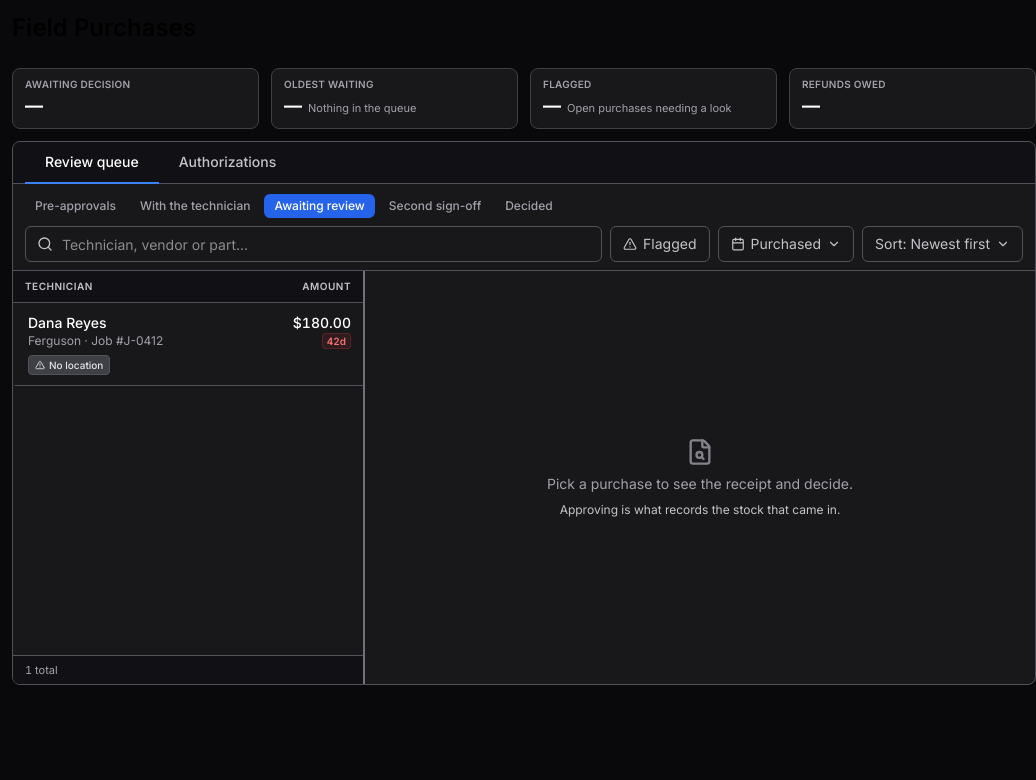
Test: review detail › the captured coordinates are behind a reveal, not on the page
Step 1. Click the text "Dana Reyes" → (67, 323), box [28,313,106,333]
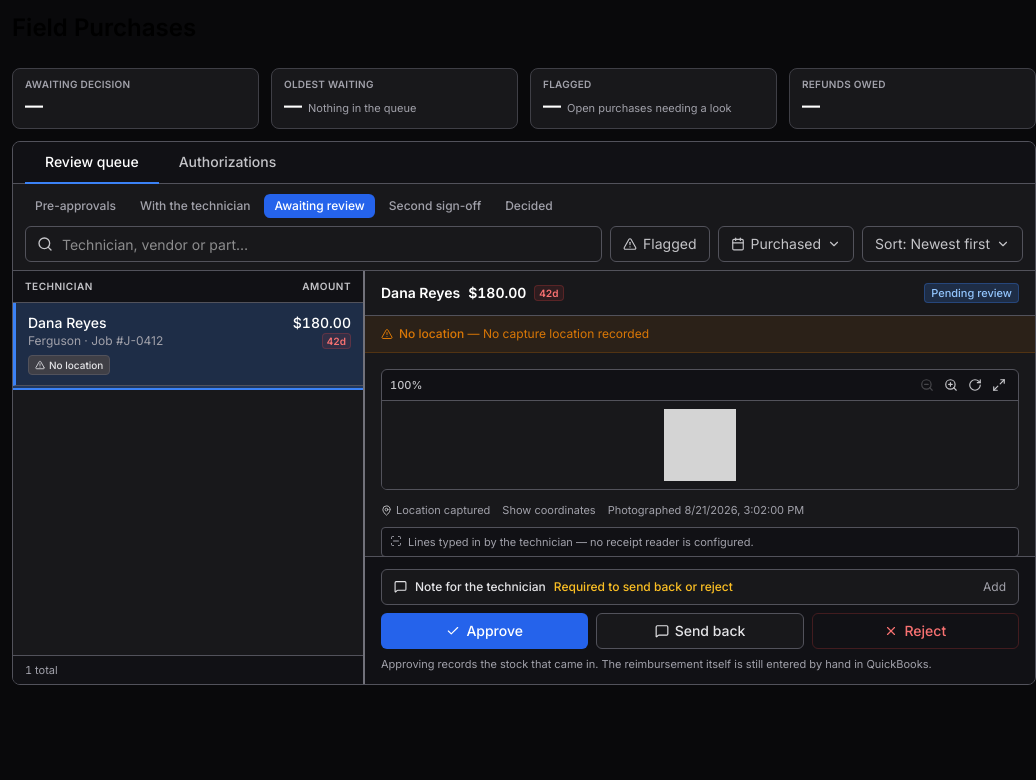
expect the text "43.8124" is not shown: met
expect the text "Location captured" is shown: met, box [396,502,490,518]
Step 2. Click the button "Show coordinates" → (549, 510), box [502,502,596,518]
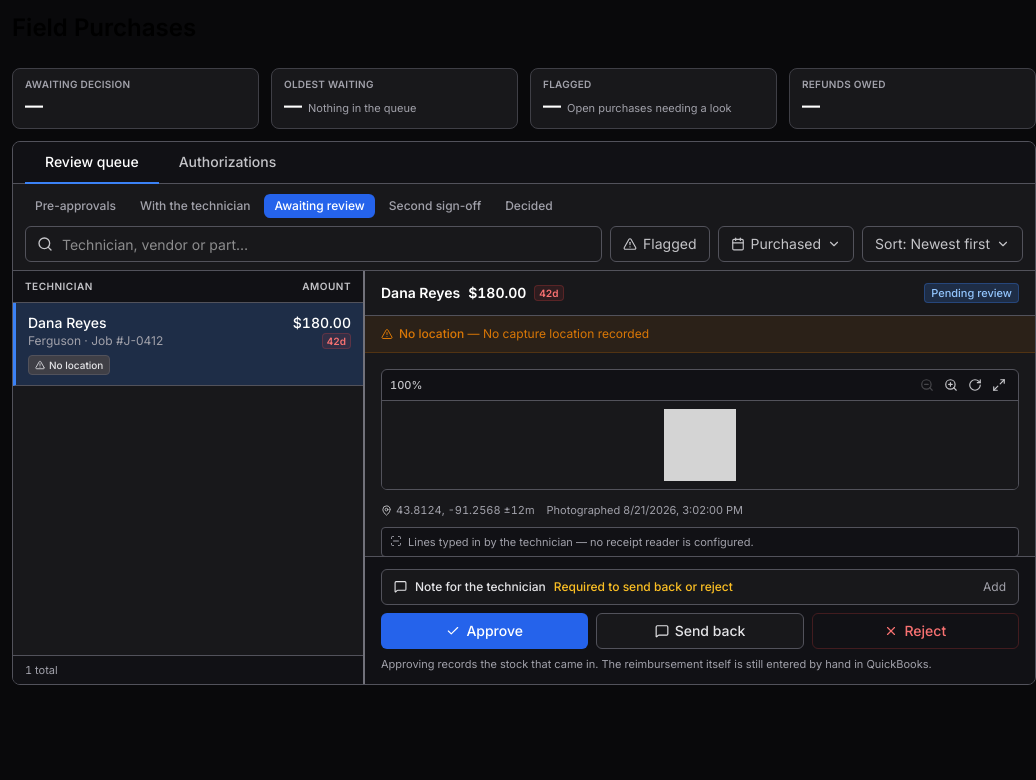
expect the text "43.8124, -91.2568 ±12m" is shown: met, box [396,502,535,518]
